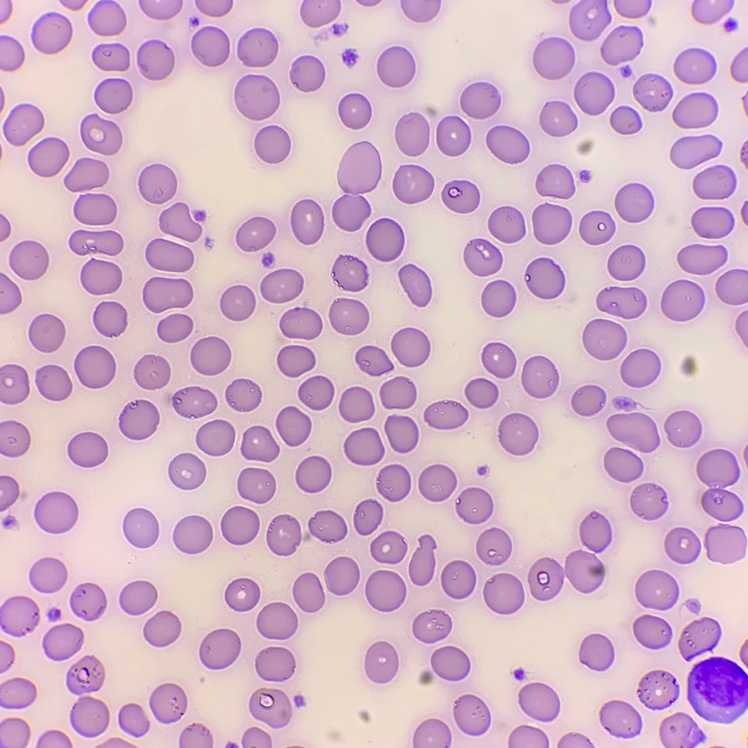RBC: (332, 142, 381, 230), (689, 441, 742, 520), (528, 550, 607, 600), (690, 656, 746, 700), (234, 75, 279, 120), (607, 413, 658, 452), (419, 646, 469, 684), (34, 492, 77, 533), (533, 37, 574, 79), (74, 346, 115, 388), (678, 617, 720, 658), (583, 319, 626, 359), (143, 277, 192, 312), (661, 280, 703, 320), (574, 72, 613, 115), (3, 104, 43, 145), (365, 570, 405, 611), (199, 629, 240, 669), (635, 570, 677, 609), (498, 413, 537, 454), (484, 573, 523, 614), (249, 689, 291, 727), (81, 115, 121, 154), (532, 204, 571, 244), (525, 258, 564, 298), (569, 0, 607, 41), (160, 203, 201, 241), (705, 524, 746, 562), (486, 126, 528, 163), (366, 219, 403, 261), (0, 596, 39, 635), (70, 696, 109, 735), (28, 138, 68, 176), (393, 165, 433, 203), (521, 356, 558, 397), (146, 239, 193, 271), (597, 287, 645, 318), (191, 27, 229, 66), (9, 241, 48, 279), (620, 349, 659, 387), (120, 400, 158, 439), (638, 670, 677, 708), (137, 40, 174, 80), (377, 47, 414, 87), (257, 602, 297, 639), (519, 683, 559, 720), (165, 387, 216, 416), (42, 624, 83, 660), (670, 137, 717, 168), (391, 328, 429, 366), (238, 29, 277, 66), (460, 82, 499, 119), (139, 164, 176, 203), (191, 337, 230, 374), (173, 516, 212, 553), (149, 683, 186, 722), (601, 28, 641, 64), (678, 244, 726, 274), (600, 700, 640, 736), (395, 113, 429, 155), (65, 158, 108, 191), (291, 200, 323, 244), (33, 16, 71, 53), (329, 298, 368, 334), (344, 428, 383, 464), (453, 695, 489, 734), (673, 93, 713, 128), (261, 269, 303, 302), (633, 74, 670, 111), (221, 507, 258, 544), (66, 656, 104, 692), (68, 432, 107, 467), (81, 260, 121, 294), (254, 126, 290, 163), (464, 239, 501, 275), (418, 465, 455, 501), (70, 583, 106, 620), (615, 184, 650, 222), (29, 314, 64, 352), (196, 420, 234, 455), (123, 509, 158, 547), (436, 116, 470, 155), (236, 217, 275, 251), (255, 647, 294, 681), (267, 515, 300, 555), (365, 642, 398, 682), (664, 411, 700, 447), (169, 453, 205, 489), (630, 483, 666, 519), (664, 527, 700, 563), (241, 426, 278, 461), (455, 488, 492, 523), (476, 528, 511, 565), (143, 611, 180, 646), (276, 407, 310, 445), (604, 447, 642, 481), (660, 713, 698, 747), (693, 167, 733, 199), (399, 265, 431, 305), (69, 230, 122, 254), (280, 308, 321, 339), (74, 194, 116, 224), (488, 207, 524, 242), (608, 245, 644, 280), (35, 365, 71, 400), (95, 79, 132, 113), (539, 102, 576, 136), (238, 468, 275, 502), (325, 557, 359, 594), (29, 558, 66, 592), (441, 561, 475, 598), (413, 609, 451, 642), (424, 400, 467, 429), (692, 207, 732, 238), (332, 256, 367, 291), (409, 535, 434, 584), (481, 280, 515, 316), (134, 355, 170, 389), (296, 456, 330, 492), (536, 165, 573, 198), (385, 415, 418, 452), (633, 615, 670, 648), (674, 52, 712, 84), (293, 573, 324, 612), (290, 56, 324, 91), (220, 285, 254, 320), (579, 634, 613, 669), (377, 465, 410, 501), (120, 581, 156, 614), (579, 513, 611, 550), (339, 387, 373, 421), (579, 211, 614, 244), (298, 376, 333, 409), (89, 3, 125, 35), (309, 510, 345, 542), (277, 345, 314, 376), (482, 343, 515, 377), (225, 578, 259, 611), (715, 269, 747, 304), (371, 531, 406, 563), (442, 181, 478, 212), (380, 377, 416, 408), (93, 302, 126, 335), (338, 94, 370, 128), (226, 379, 260, 411), (0, 678, 36, 708), (0, 365, 28, 403), (413, 719, 450, 747), (571, 385, 605, 415), (356, 346, 391, 375), (0, 421, 29, 456), (301, 0, 340, 26), (465, 378, 497, 408), (158, 314, 192, 342), (354, 500, 382, 534), (93, 44, 129, 70), (119, 704, 148, 735), (692, 0, 729, 23), (0, 718, 29, 747), (508, 726, 548, 747), (401, 0, 440, 21), (139, 0, 182, 19), (0, 274, 20, 313), (179, 724, 212, 747), (610, 107, 638, 134), (0, 39, 23, 70), (0, 475, 18, 510), (690, 696, 718, 718), (614, 0, 647, 18), (37, 730, 71, 747), (196, 0, 232, 16), (242, 728, 271, 747), (731, 49, 747, 82), (558, 733, 592, 747), (0, 642, 14, 671), (735, 311, 747, 343), (612, 396, 635, 409), (558, 80, 572, 98), (102, 738, 129, 747), (0, 216, 10, 239), (682, 357, 695, 374), (0, 2, 11, 21), (62, 0, 84, 9), (343, 49, 356, 64), (1, 516, 15, 529), (262, 253, 274, 267), (740, 143, 747, 162), (740, 644, 747, 663), (687, 599, 698, 610), (426, 107, 437, 117), (579, 142, 590, 152), (194, 210, 205, 220), (294, 695, 304, 705), (741, 205, 747, 221), (130, 73, 139, 83), (177, 48, 188, 56), (360, 0, 376, 5), (561, 386, 570, 394), (441, 599, 449, 607), (515, 670, 523, 678), (0, 95, 4, 104), (743, 96, 747, 104), (743, 450, 747, 458)
